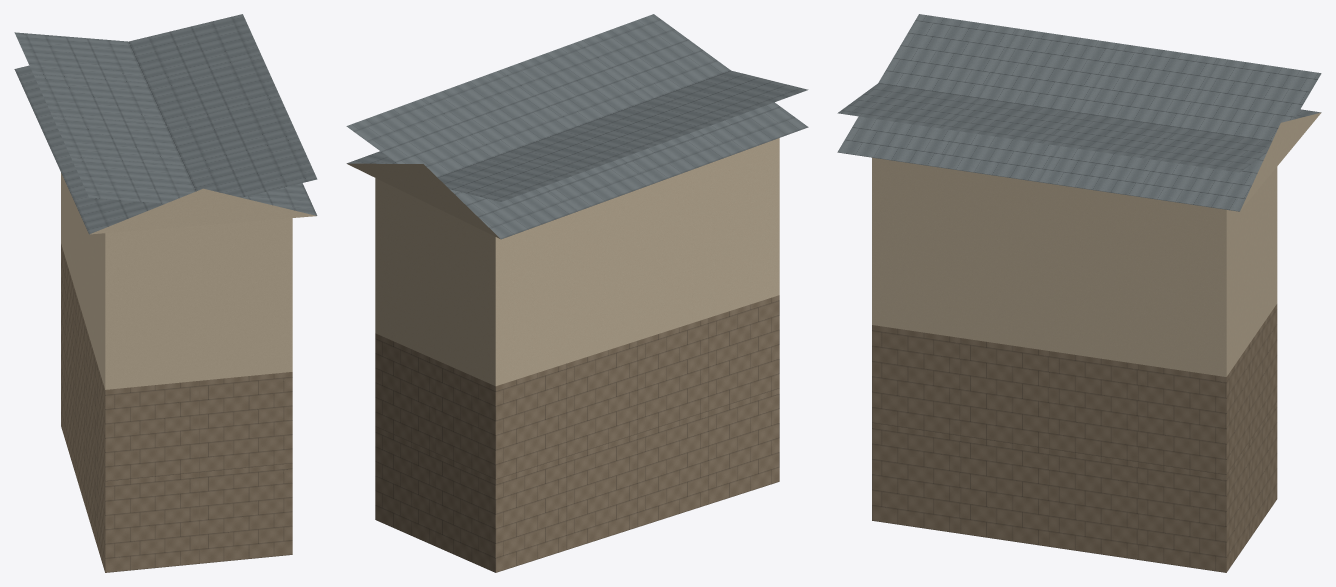
File: bld_c-30_-23_750.gltf
3 renders of one model, left to right at view 1: azimuth 30°, elevation 25°; view 2: azimuth 150°, elevation 25°; view 3: azimuth 270°, elevation 25°, orthographic. The views are drawn at different scales.
Visible parts, largest first — view 1: bld_c-30_-23_750; view 2: bld_c-30_-23_750; view 3: bld_c-30_-23_750.
Part boxes in pixels (x1,y1,x2,y2): bld_c-30_-23_750: (14, 14, 317, 572); bld_c-30_-23_750: (346, 14, 808, 572); bld_c-30_-23_750: (837, 14, 1321, 572).
Bounding box in the file's own units: 8.66 × 10.5 × 11.19.
Materials: 4 (4 with a texture image).
